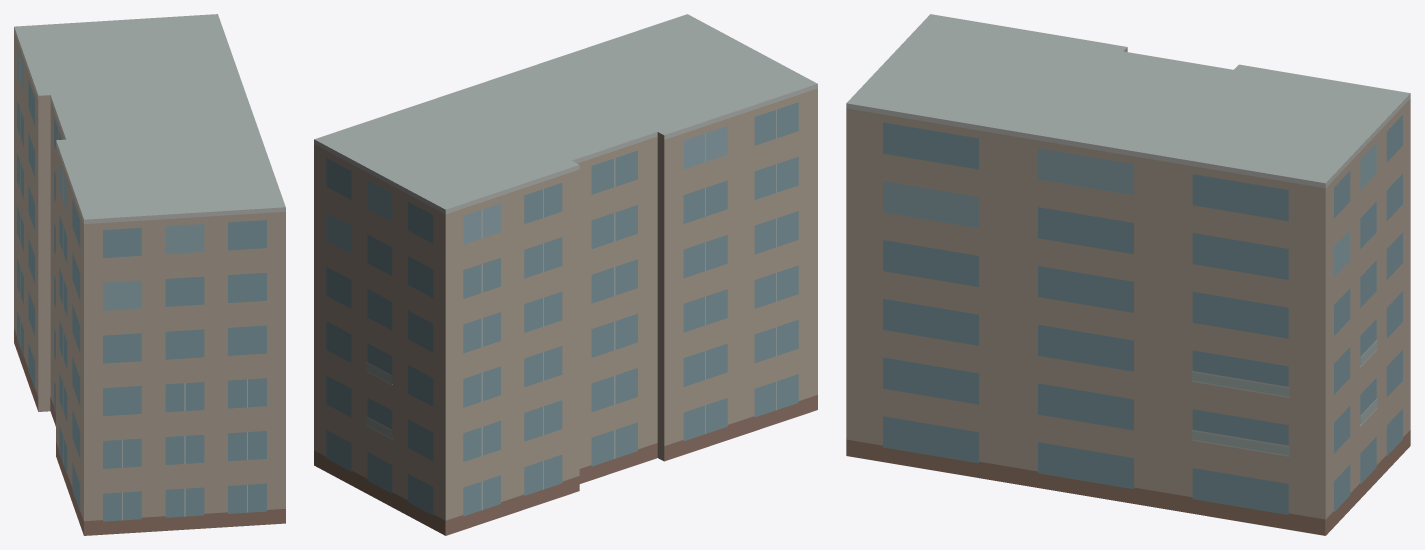
Rendered from survey-upis-32664419.glb.
3 views of the same model, side by side, from view 1: azimuth 30°, elevation 25°; view 2: azimuth 150°, elevation 25°; view 3: azimuth 270°, elevation 25° (orthographic). The views are drawn at different scales.
Visible parts, largest first — view 1: survey-upis-32664419.tmp; view 2: survey-upis-32664419.tmp; view 3: survey-upis-32664419.tmp.
Boxes of the visible parts, x1,y1,x2,y2 form: survey-upis-32664419.tmp: (14,14,285,535); survey-upis-32664419.tmp: (314,14,817,535); survey-upis-32664419.tmp: (846,14,1410,535).
Bounding box in the file's own units: 17.62 × 17.1 × 24.82.
